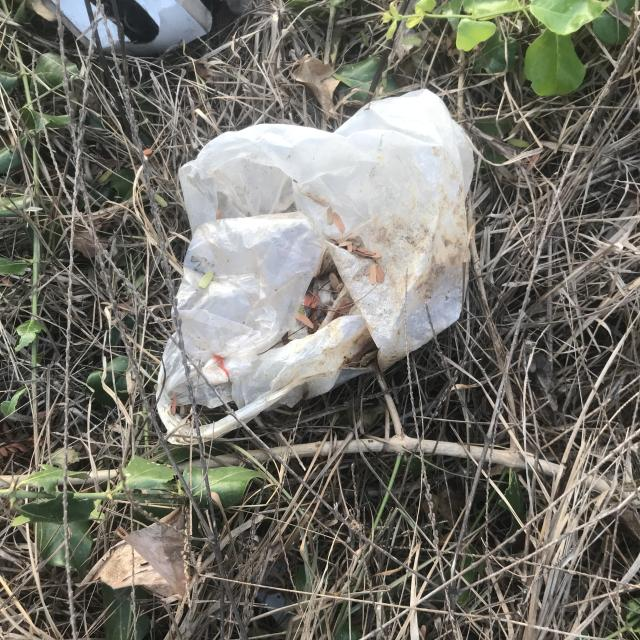Single-layer Plastic: (158, 90, 474, 445)
